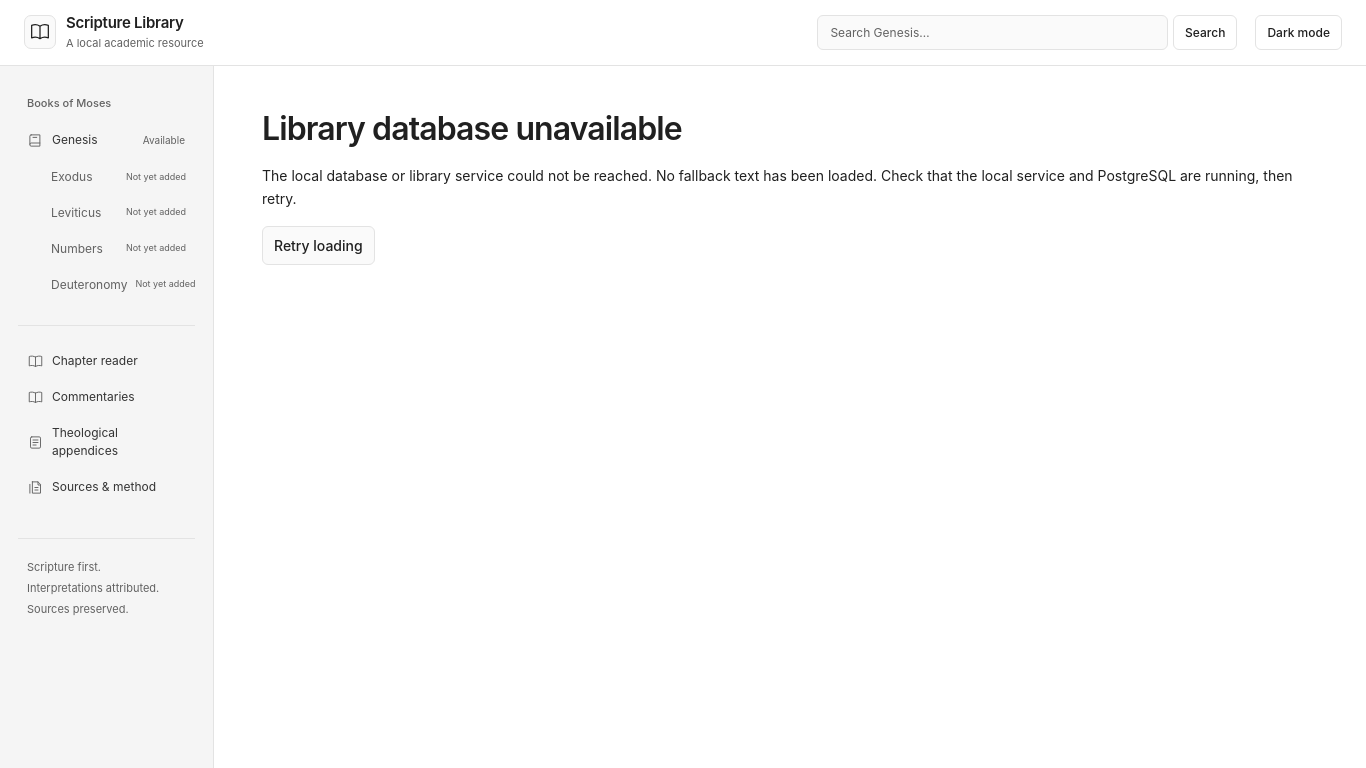
Scenario: library request deadline › aborts a stalled request after 15 seconds, shows retry, and ignores its late response
Expected: the heading "Library database unavailable" is shown, [262,109,682,148]
Step 1. Click the button "Retry loading" → (318, 245), box [262,226,375,265]
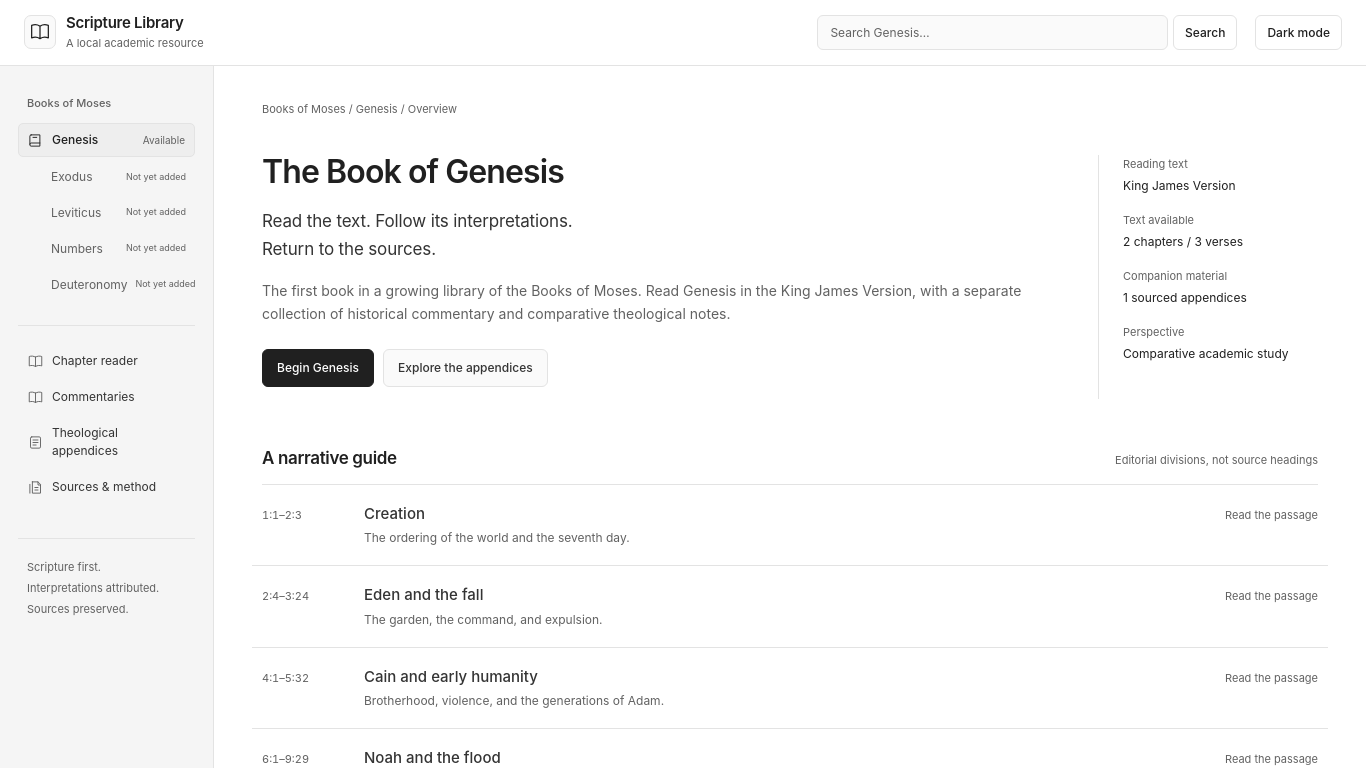
Result: the heading "The Book of Genesis" is shown at [262,152,564,191]
